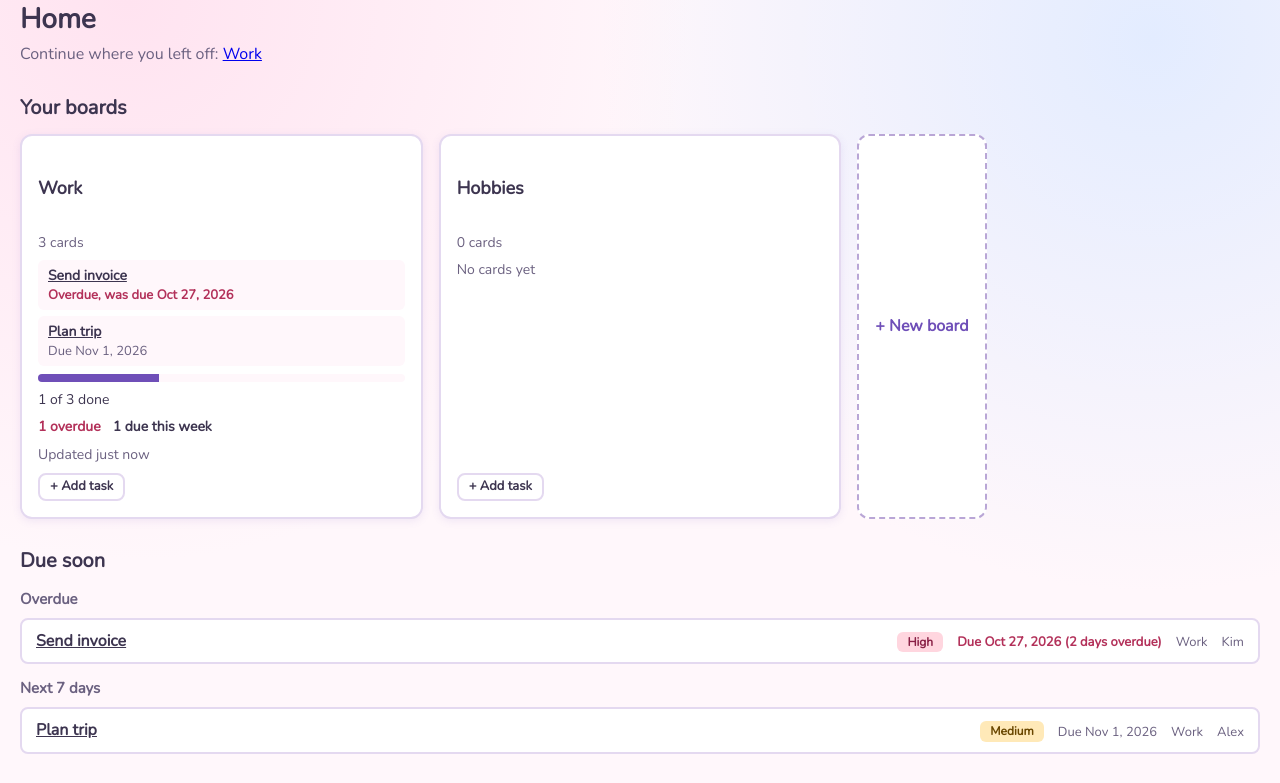
Test: adding a task from a tile › saves the new task to that board and closes the form
This screenshot has width=1280, height=783.
Click the button with aria-label "Add task to Hobbies" at coordinates (500, 487), box [457,473,544,501]
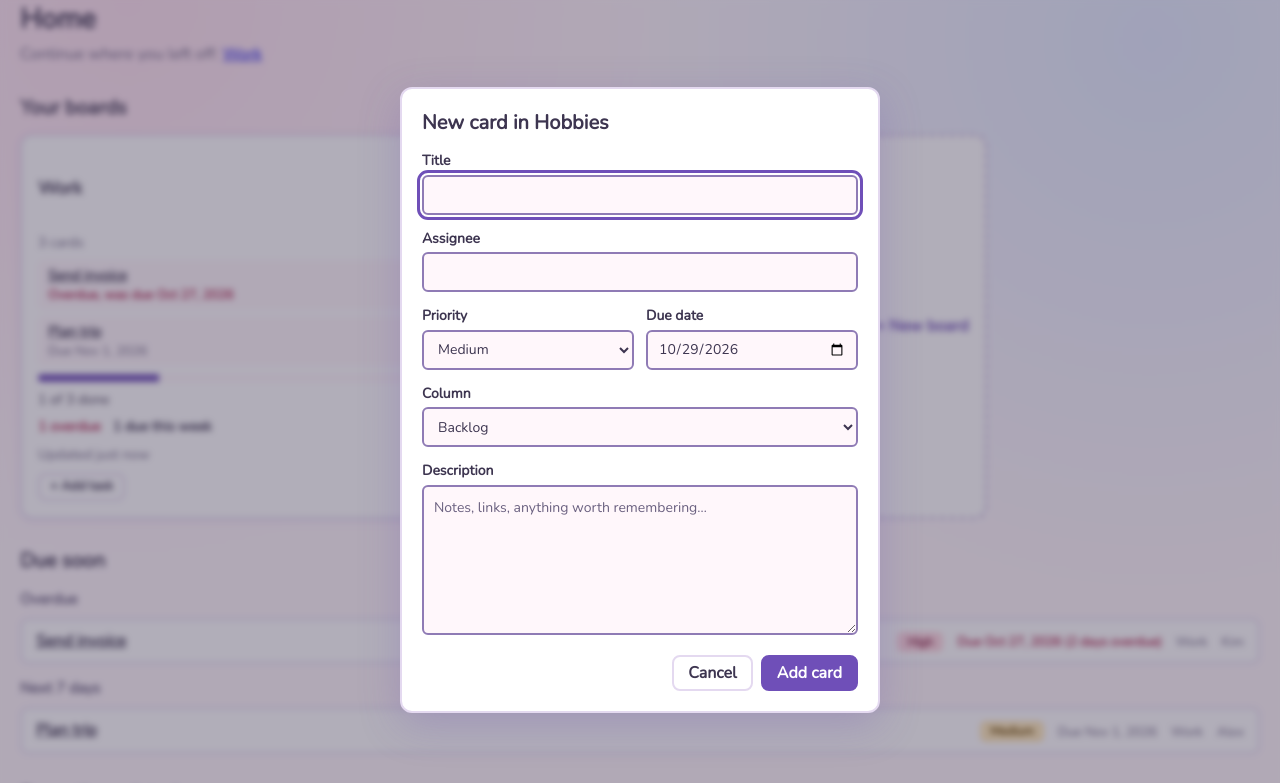
Type "Buy yarn" into the field labelled "Title" at coordinates (640, 195), box [422,175,858,215]
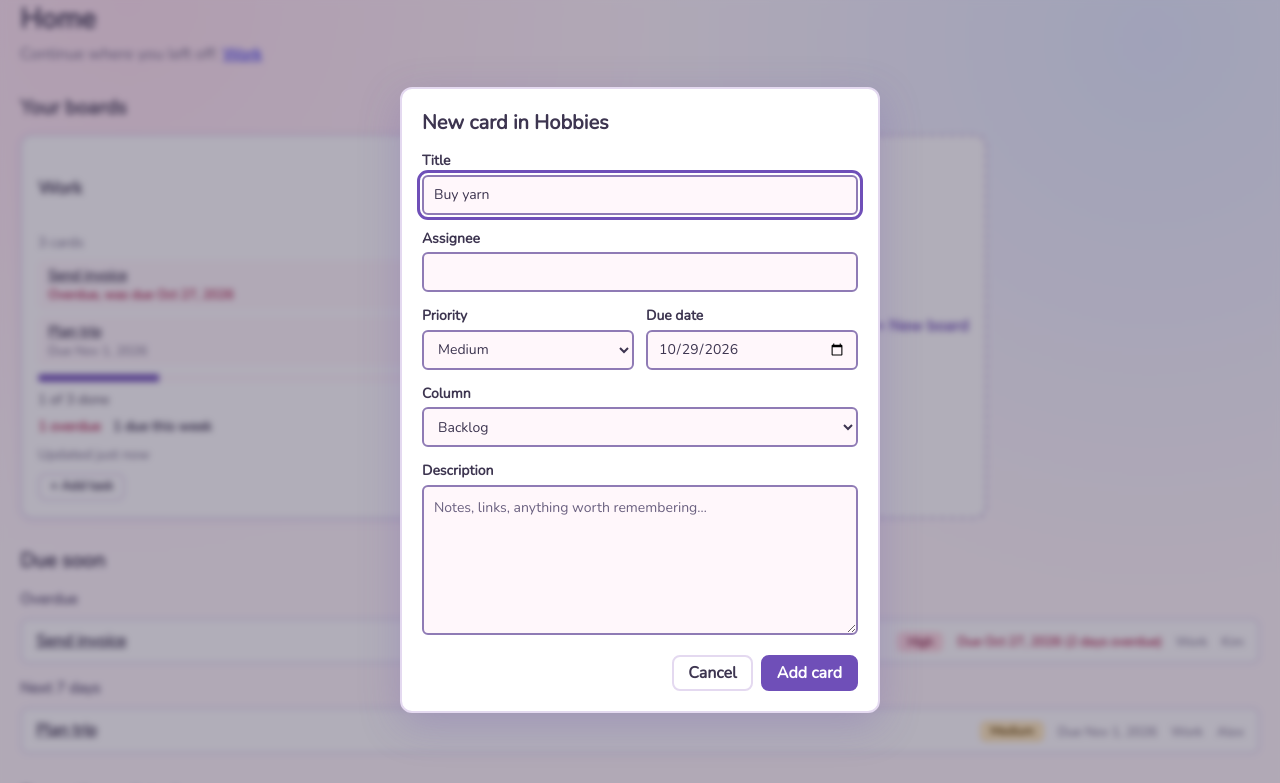
Type "Kim" into the field labelled "Assignee" at coordinates (640, 272), box [422,252,858,292]
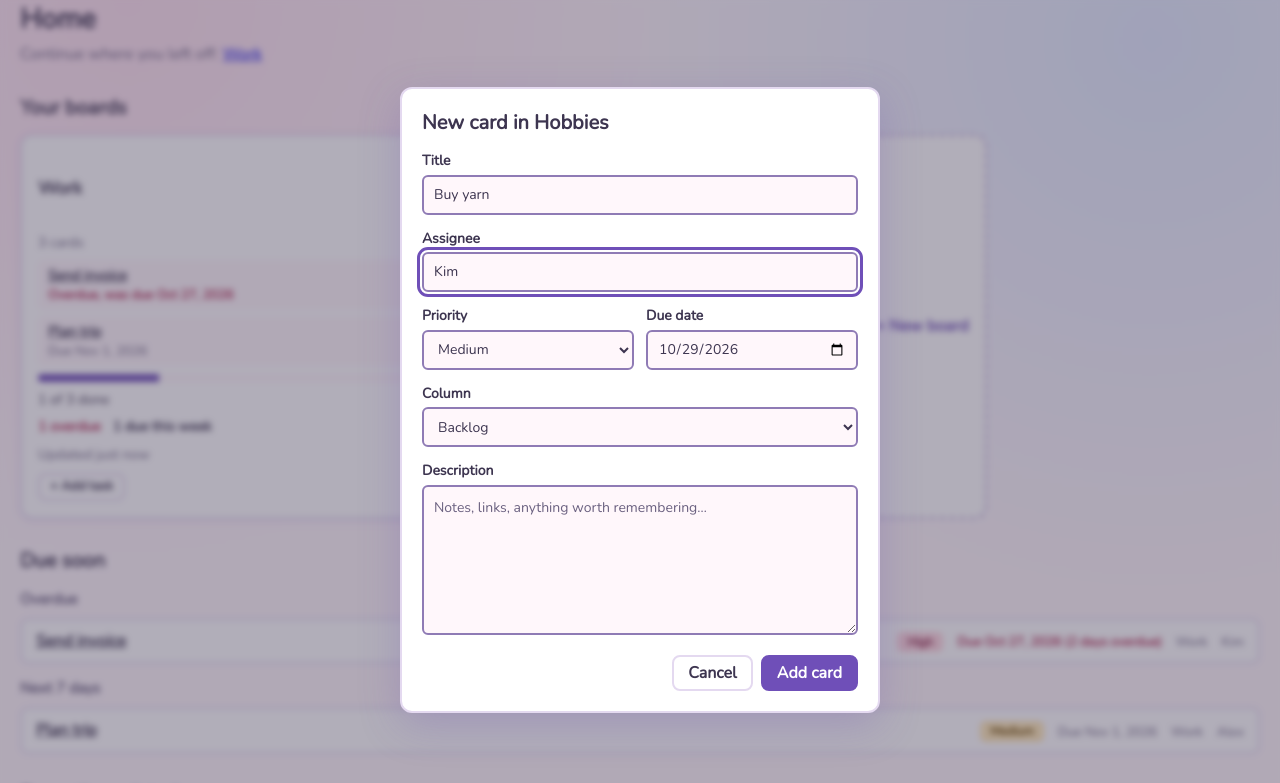
Click the button "Add card" at coordinates (809, 673), box [761,655,858,691]
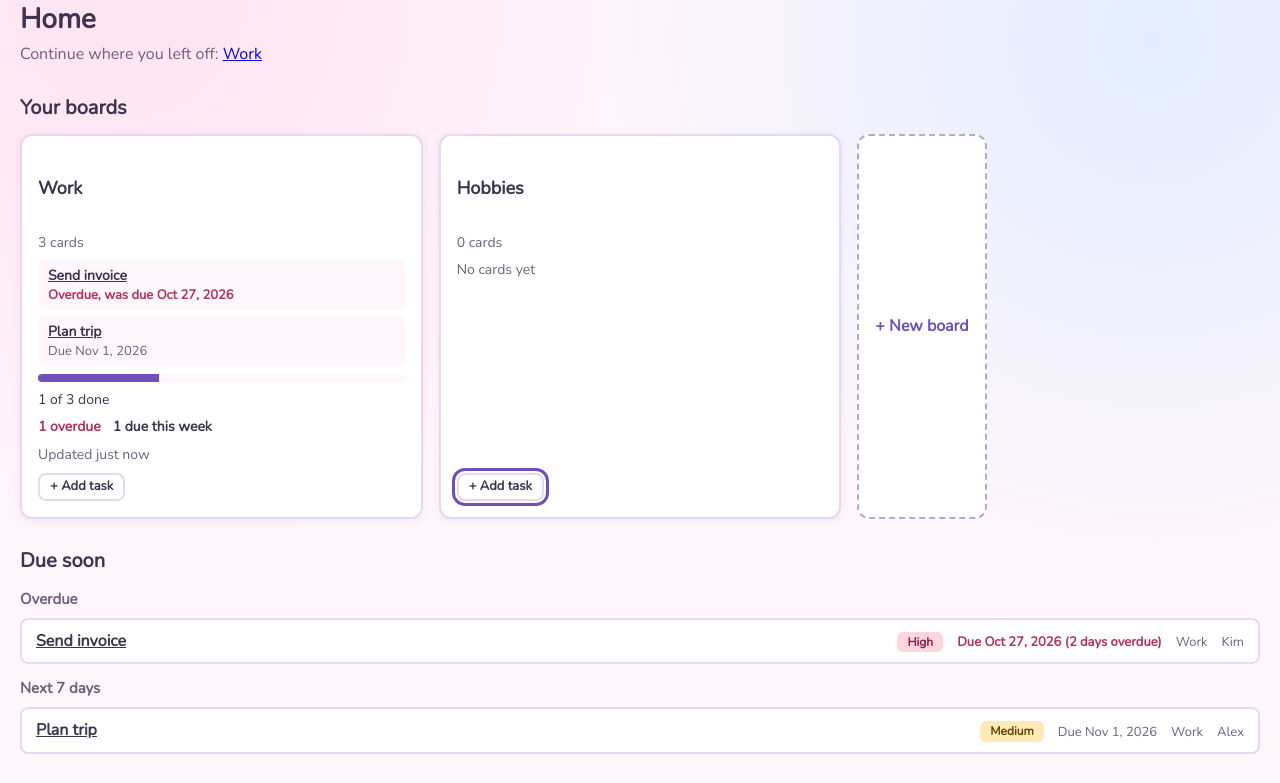
Now the heading "New card" is gone
